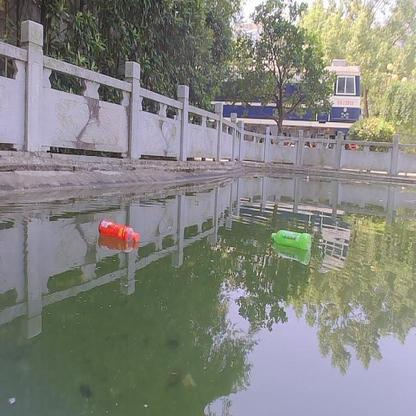plastic bottle: (98, 218, 140, 243), (269, 229, 313, 250)
